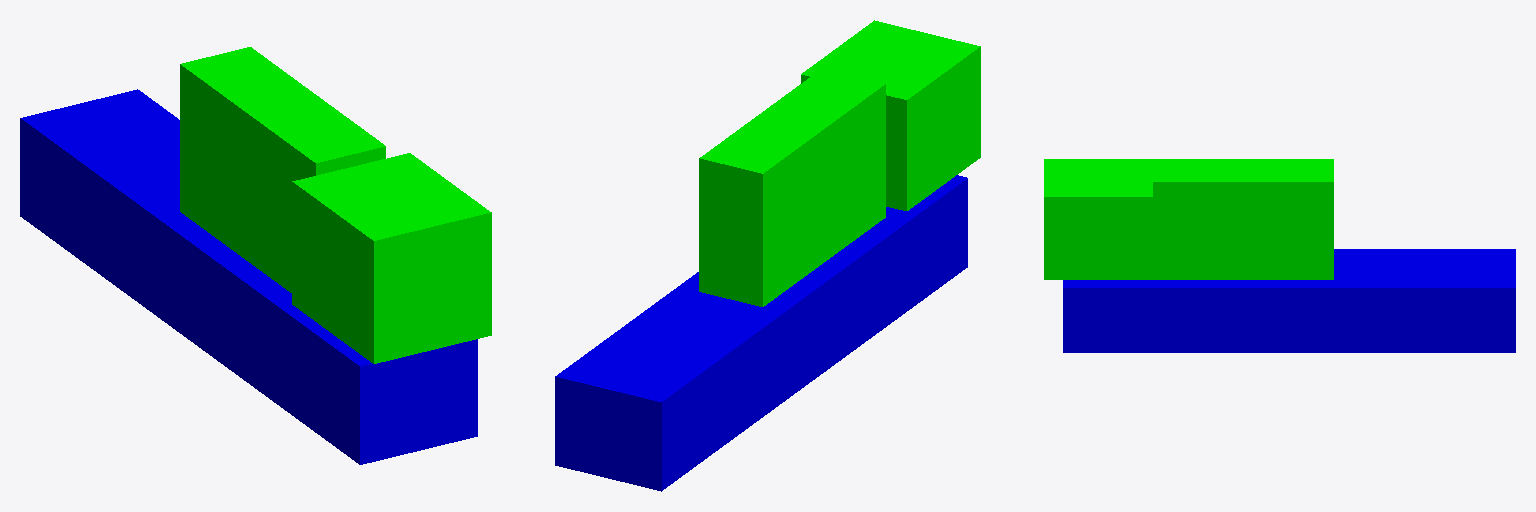
URDF robot description (robot):
<robot name = "robot">
    <link name="root">
        <inertial>
            <origin xyz="0.0 0.0 1.5" rpy="0 0 0"/>
            <mass value="1" />
            <inertia ixx="100" ixy="0" ixz="0" iyy="100" iyz="0" izz="100" />
        </inertial>
        <visual>
            <origin xyz="0.0 0.0 1.5" rpy="0 0 0"/>
            <geometry>
                <box size="0 0 0.0001" />
            </geometry>
            <material name="Green">
                <color rgba="0 1.0 0.0 1.0"/>
            </material>
        </visual>
        <collision>
            <origin xyz="0.0 0.0 1.5" rpy="0 0 0"/>
            <geometry>
                <box size="0 0 0.0001" />
            </geometry>
        </collision>
    </link>
    <joint name="root_000" type="revolute">
       <parent link="root"/>
       <child  link="000"/>
       <origin rpy="0 0 0" xyz="0.0 0.0 1.5" />
     <axis xyz="1 0 0"/>
       <limit effort="0.0" lower="-3.14159" upper="3.14159" velocity="0.0"/>
    </joint>
    <link name="000">
        <inertial>
            <origin xyz="0.0 0.1 0.0" rpy="0 0 0"/>
            <mass value="1" />
            <inertia ixx="100" ixy="0" ixz="0" iyy="100" iyz="0" izz="100" />
        </inertial>
        <visual>
            <origin xyz="0.0 0.1 0.0" rpy="0 0 0"/>
            <geometry>
                <box size="0.5 0.2 0.5" />
            </geometry>
            <material name="Green">
                <color rgba="0 1.0 0.0 1.0"/>
            </material>
        </visual>
        <collision>
            <origin xyz="0.0 0.1 0.0" rpy="0 0 0"/>
            <geometry>
                <box size="0.5 0.2 0.5" />
            </geometry>
        </collision>
    </link>
    <joint name="000_010" type="revolute">
       <parent link="000"/>
       <child  link="010"/>
       <origin rpy="0 0 0" xyz="0.0 0.2 -0.0" />
     <axis xyz="0 1 0"/>
       <limit effort="0.0" lower="-3.14159" upper="3.14159" velocity="0.0"/>
    </joint>
    <link name="010">
        <inertial>
            <origin xyz="0.0 0.1 -0.0" rpy="0 0 0"/>
            <mass value="1" />
            <inertia ixx="100" ixy="0" ixz="0" iyy="100" iyz="0" izz="100" />
        </inertial>
        <visual>
            <origin xyz="0.0 0.1 -0.0" rpy="0 0 0"/>
            <geometry>
                <box size="0.5 0.2 0.5" />
            </geometry>
            <material name="Green">
                <color rgba="0 1.0 0.0 1.0"/>
            </material>
        </visual>
        <collision>
            <origin xyz="0.0 0.1 -0.0" rpy="0 0 0"/>
            <geometry>
                <box size="0.5 0.2 0.5" />
            </geometry>
        </collision>
    </link>
    <joint name="010_020" type="revolute">
       <parent link="010"/>
       <child  link="020"/>
       <origin rpy="0 0 0" xyz="0.0 0.2 -0.0" />
     <axis xyz="0 1 0"/>
       <limit effort="0.0" lower="-3.14159" upper="3.14159" velocity="0.0"/>
    </joint>
    <link name="020">
        <inertial>
            <origin xyz="0.0 0.1 -0.0" rpy="0 0 0"/>
            <mass value="1" />
            <inertia ixx="100" ixy="0" ixz="0" iyy="100" iyz="0" izz="100" />
        </inertial>
        <visual>
            <origin xyz="0.0 0.1 -0.0" rpy="0 0 0"/>
            <geometry>
                <box size="0.5 0.2 0.5" />
            </geometry>
            <material name="Green">
                <color rgba="0 1.0 0.0 1.0"/>
            </material>
        </visual>
        <collision>
            <origin xyz="0.0 0.1 -0.0" rpy="0 0 0"/>
            <geometry>
                <box size="0.5 0.2 0.5" />
            </geometry>
        </collision>
    </link>
    <joint name="020_020-100" type="revolute">
       <parent link="020"/>
       <child  link="020-100"/>
       <origin rpy="0 0 0" xyz="0.0 0.2 -0.0" />
     <axis xyz="0 1 0"/>
       <limit effort="0.0" lower="-3.14159" upper="3.14159" velocity="0.0"/>
    </joint>
    <link name="020-100">
        <inertial>
            <origin xyz="0.0 0.25 -0.0" rpy="0 0 0"/>
            <mass value="1" />
            <inertia ixx="100" ixy="0" ixz="0" iyy="100" iyz="0" izz="100" />
        </inertial>
        <visual>
            <origin xyz="0.0 0.25 -0.0" rpy="0 0 0"/>
            <geometry>
                <box size="0.3 0.5 0.6" />
            </geometry>
            <material name="Green">
                <color rgba="0 1.0 0.0 1.0"/>
            </material>
        </visual>
        <collision>
            <origin xyz="0.0 0.25 -0.0" rpy="0 0 0"/>
            <geometry>
                <box size="0.3 0.5 0.6" />
            </geometry>
        </collision>
    </link>
    <joint name="020-100_020-110" type="revolute">
       <parent link="020-100"/>
       <child  link="020-110"/>
       <origin rpy="0 0 0" xyz="0.0 0.5 -0.0" />
     <axis xyz="0 1 0"/>
       <limit effort="0.0" lower="-3.14159" upper="3.14159" velocity="0.0"/>
    </joint>
    <link name="020-110">
        <inertial>
            <origin xyz="0.0 0.25 -0.0" rpy="0 0 0"/>
            <mass value="1" />
            <inertia ixx="100" ixy="0" ixz="0" iyy="100" iyz="0" izz="100" />
        </inertial>
        <visual>
            <origin xyz="0.0 0.25 -0.0" rpy="0 0 0"/>
            <geometry>
                <box size="0.3 0.5 0.6" />
            </geometry>
            <material name="Green">
                <color rgba="0 1.0 0.0 1.0"/>
            </material>
        </visual>
        <collision>
            <origin xyz="0.0 0.25 -0.0" rpy="0 0 0"/>
            <geometry>
                <box size="0.3 0.5 0.6" />
            </geometry>
        </collision>
    </link>
    <joint name="020-110_020-110-200" type="revolute">
       <parent link="020-110"/>
       <child  link="020-110-200"/>
       <origin rpy="0 0 0" xyz="0.0 0.25 -0.3" />
     <axis xyz="0 0 1"/>
       <limit effort="0.0" lower="-3.14159" upper="3.14159" velocity="0.0"/>
    </joint>
    <link name="020-110-200">
        <inertial>
            <origin xyz="0.0 0.0 -0.1" rpy="0 0 0"/>
            <mass value="1" />
            <inertia ixx="100" ixy="0" ixz="0" iyy="100" iyz="0" izz="100" />
        </inertial>
        <visual>
            <origin xyz="0.0 0.0 -0.1" rpy="0 0 0"/>
            <geometry>
                <box size="0.5 0.7 0.2" />
            </geometry>
            <material name="Blue">
                <color rgba="0 0.0 1.0 1.0"/>
            </material>
        </visual>
        <collision>
            <origin xyz="0.0 0.0 -0.1" rpy="0 0 0"/>
            <geometry>
                <box size="0.5 0.7 0.2" />
            </geometry>
        </collision>
    </link>
    <joint name="020-110-200_020-110-210" type="revolute">
       <parent link="020-110-200"/>
       <child  link="020-110-210"/>
       <origin rpy="0 0 0" xyz="0.0 0.0 -0.2" />
     <axis xyz="0 0 1"/>
       <limit effort="0.0" lower="-3.14159" upper="3.14159" velocity="0.0"/>
    </joint>
    <link name="020-110-210">
        <inertial>
            <origin xyz="0.0 0.0 -0.1" rpy="0 0 0"/>
            <mass value="1" />
            <inertia ixx="100" ixy="0" ixz="0" iyy="100" iyz="0" izz="100" />
        </inertial>
        <visual>
            <origin xyz="0.0 0.0 -0.1" rpy="0 0 0"/>
            <geometry>
                <box size="0.5 0.7 0.2" />
            </geometry>
            <material name="Blue">
                <color rgba="0 0.0 1.0 1.0"/>
            </material>
        </visual>
        <collision>
            <origin xyz="0.0 0.0 -0.1" rpy="0 0 0"/>
            <geometry>
                <box size="0.5 0.7 0.2" />
            </geometry>
        </collision>
    </link>
    <joint name="020-110-210_020-110-210-300" type="revolute">
       <parent link="020-110-210"/>
       <child  link="020-110-210-300"/>
       <origin rpy="0 0 0" xyz="0.0 0.35 -0.1" />
     <axis xyz="0 1 0"/>
       <limit effort="0.0" lower="-3.14159" upper="3.14159" velocity="0.0"/>
    </joint>
    <link name="020-110-210-300">
        <inertial>
            <origin xyz="0.0 0.15 -0.0" rpy="0 0 0"/>
            <mass value="1" />
            <inertia ixx="100" ixy="0" ixz="0" iyy="100" iyz="0" izz="100" />
        </inertial>
        <visual>
            <origin xyz="0.0 0.15 -0.0" rpy="0 0 0"/>
            <geometry>
                <box size="0.5 0.3 0.2" />
            </geometry>
            <material name="Blue">
                <color rgba="0 0.0 1.0 1.0"/>
            </material>
        </visual>
        <collision>
            <origin xyz="0.0 0.15 -0.0" rpy="0 0 0"/>
            <geometry>
                <box size="0.5 0.3 0.2" />
            </geometry>
        </collision>
    </link>
    <joint name="020-110-210-300_020-110-210-310" type="revolute">
       <parent link="020-110-210-300"/>
       <child  link="020-110-210-310"/>
       <origin rpy="0 0 0" xyz="0.0 0.3 -0.0" />
     <axis xyz="0 1 0"/>
       <limit effort="0.0" lower="-3.14159" upper="3.14159" velocity="0.0"/>
    </joint>
    <link name="020-110-210-310">
        <inertial>
            <origin xyz="0.0 0.15 -0.0" rpy="0 0 0"/>
            <mass value="1" />
            <inertia ixx="100" ixy="0" ixz="0" iyy="100" iyz="0" izz="100" />
        </inertial>
        <visual>
            <origin xyz="0.0 0.15 -0.0" rpy="0 0 0"/>
            <geometry>
                <box size="0.5 0.3 0.2" />
            </geometry>
            <material name="Blue">
                <color rgba="0 0.0 1.0 1.0"/>
            </material>
        </visual>
        <collision>
            <origin xyz="0.0 0.15 -0.0" rpy="0 0 0"/>
            <geometry>
                <box size="0.5 0.3 0.2" />
            </geometry>
        </collision>
    </link>
    <joint name="020-110-210-310_020-110-210-320" type="revolute">
       <parent link="020-110-210-310"/>
       <child  link="020-110-210-320"/>
       <origin rpy="0 0 0" xyz="0.0 0.3 -0.0" />
     <axis xyz="0 1 0"/>
       <limit effort="0.0" lower="-3.14159" upper="3.14159" velocity="0.0"/>
    </joint>
    <link name="020-110-210-320">
        <inertial>
            <origin xyz="0.0 0.15 -0.0" rpy="0 0 0"/>
            <mass value="1" />
            <inertia ixx="100" ixy="0" ixz="0" iyy="100" iyz="0" izz="100" />
        </inertial>
        <visual>
            <origin xyz="0.0 0.15 -0.0" rpy="0 0 0"/>
            <geometry>
                <box size="0.5 0.3 0.2" />
            </geometry>
            <material name="Blue">
                <color rgba="0 0.0 1.0 1.0"/>
            </material>
        </visual>
        <collision>
            <origin xyz="0.0 0.15 -0.0" rpy="0 0 0"/>
            <geometry>
                <box size="0.5 0.3 0.2" />
            </geometry>
        </collision>
    </link>
    <joint name="020-110-210_020-110-210-301" type="revolute">
       <parent link="020-110-210"/>
       <child  link="020-110-210-301"/>
       <origin rpy="0 0 0" xyz="0.0 -0.35 -0.1" />
     <axis xyz="0 1 0"/>
       <limit effort="0.0" lower="-3.14159" upper="3.14159" velocity="0.0"/>
    </joint>
    <link name="020-110-210-301">
        <inertial>
            <origin xyz="0.0 -0.15 -0.0" rpy="0 0 0"/>
            <mass value="1" />
            <inertia ixx="100" ixy="0" ixz="0" iyy="100" iyz="0" izz="100" />
        </inertial>
        <visual>
            <origin xyz="0.0 -0.15 -0.0" rpy="0 0 0"/>
            <geometry>
                <box size="0.5 0.3 0.2" />
            </geometry>
            <material name="Blue">
                <color rgba="0 0.0 1.0 1.0"/>
            </material>
        </visual>
        <collision>
            <origin xyz="0.0 -0.15 -0.0" rpy="0 0 0"/>
            <geometry>
                <box size="0.5 0.3 0.2" />
            </geometry>
        </collision>
    </link>
    <joint name="020-110-210-301_020-110-210-311" type="revolute">
       <parent link="020-110-210-301"/>
       <child  link="020-110-210-311"/>
       <origin rpy="0 0 0" xyz="0.0 -0.3 -0.0" />
     <axis xyz="0 1 0"/>
       <limit effort="0.0" lower="-3.14159" upper="3.14159" velocity="0.0"/>
    </joint>
    <link name="020-110-210-311">
        <inertial>
            <origin xyz="0.0 -0.15 -0.0" rpy="0 0 0"/>
            <mass value="1" />
            <inertia ixx="100" ixy="0" ixz="0" iyy="100" iyz="0" izz="100" />
        </inertial>
        <visual>
            <origin xyz="0.0 -0.15 -0.0" rpy="0 0 0"/>
            <geometry>
                <box size="0.5 0.3 0.2" />
            </geometry>
            <material name="Blue">
                <color rgba="0 0.0 1.0 1.0"/>
            </material>
        </visual>
        <collision>
            <origin xyz="0.0 -0.15 -0.0" rpy="0 0 0"/>
            <geometry>
                <box size="0.5 0.3 0.2" />
            </geometry>
        </collision>
    </link>
    <joint name="020-110-210-311_020-110-210-321" type="revolute">
       <parent link="020-110-210-311"/>
       <child  link="020-110-210-321"/>
       <origin rpy="0 0 0" xyz="0.0 -0.3 -0.0" />
     <axis xyz="0 1 0"/>
       <limit effort="0.0" lower="-3.14159" upper="3.14159" velocity="0.0"/>
    </joint>
    <link name="020-110-210-321">
        <inertial>
            <origin xyz="0.0 -0.15 -0.0" rpy="0 0 0"/>
            <mass value="1" />
            <inertia ixx="100" ixy="0" ixz="0" iyy="100" iyz="0" izz="100" />
        </inertial>
        <visual>
            <origin xyz="0.0 -0.15 -0.0" rpy="0 0 0"/>
            <geometry>
                <box size="0.5 0.3 0.2" />
            </geometry>
            <material name="Blue">
                <color rgba="0 0.0 1.0 1.0"/>
            </material>
        </visual>
        <collision>
            <origin xyz="0.0 -0.15 -0.0" rpy="0 0 0"/>
            <geometry>
                <box size="0.5 0.3 0.2" />
            </geometry>
        </collision>
    </link>
    <joint name="020-110-200_020-110-200-300" type="revolute">
       <parent link="020-110-200"/>
       <child  link="020-110-200-300"/>
       <origin rpy="0 0 0" xyz="0.0 0.35 -0.1" />
     <axis xyz="0 1 0"/>
       <limit effort="0.0" lower="-3.14159" upper="3.14159" velocity="0.0"/>
    </joint>
    <link name="020-110-200-300">
        <inertial>
            <origin xyz="0.0 0.15 -0.0" rpy="0 0 0"/>
            <mass value="1" />
            <inertia ixx="100" ixy="0" ixz="0" iyy="100" iyz="0" izz="100" />
        </inertial>
        <visual>
            <origin xyz="0.0 0.15 -0.0" rpy="0 0 0"/>
            <geometry>
                <box size="0.5 0.3 0.2" />
            </geometry>
            <material name="Blue">
                <color rgba="0 0.0 1.0 1.0"/>
            </material>
        </visual>
        <collision>
            <origin xyz="0.0 0.15 -0.0" rpy="0 0 0"/>
            <geometry>
                <box size="0.5 0.3 0.2" />
            </geometry>
        </collision>
    </link>
    <joint name="020-110-200-300_020-110-200-310" type="revolute">
       <parent link="020-110-200-300"/>
       <child  link="020-110-200-310"/>
       <origin rpy="0 0 0" xyz="0.0 0.3 -0.0" />
     <axis xyz="0 1 0"/>
       <limit effort="0.0" lower="-3.14159" upper="3.14159" velocity="0.0"/>
    </joint>
    <link name="020-110-200-310">
        <inertial>
            <origin xyz="0.0 0.15 -0.0" rpy="0 0 0"/>
            <mass value="1" />
            <inertia ixx="100" ixy="0" ixz="0" iyy="100" iyz="0" izz="100" />
        </inertial>
        <visual>
            <origin xyz="0.0 0.15 -0.0" rpy="0 0 0"/>
            <geometry>
                <box size="0.5 0.3 0.2" />
            </geometry>
            <material name="Blue">
                <color rgba="0 0.0 1.0 1.0"/>
            </material>
        </visual>
        <collision>
            <origin xyz="0.0 0.15 -0.0" rpy="0 0 0"/>
            <geometry>
                <box size="0.5 0.3 0.2" />
            </geometry>
        </collision>
    </link>
    <joint name="020-110-200-310_020-110-200-320" type="revolute">
       <parent link="020-110-200-310"/>
       <child  link="020-110-200-320"/>
       <origin rpy="0 0 0" xyz="0.0 0.3 -0.0" />
     <axis xyz="0 1 0"/>
       <limit effort="0.0" lower="-3.14159" upper="3.14159" velocity="0.0"/>
    </joint>
    <link name="020-110-200-320">
        <inertial>
            <origin xyz="0.0 0.15 -0.0" rpy="0 0 0"/>
            <mass value="1" />
            <inertia ixx="100" ixy="0" ixz="0" iyy="100" iyz="0" izz="100" />
        </inertial>
        <visual>
            <origin xyz="0.0 0.15 -0.0" rpy="0 0 0"/>
            <geometry>
                <box size="0.5 0.3 0.2" />
            </geometry>
            <material name="Blue">
                <color rgba="0 0.0 1.0 1.0"/>
            </material>
        </visual>
        <collision>
            <origin xyz="0.0 0.15 -0.0" rpy="0 0 0"/>
            <geometry>
                <box size="0.5 0.3 0.2" />
            </geometry>
        </collision>
    </link>
    <joint name="020-110-200_020-110-200-301" type="revolute">
       <parent link="020-110-200"/>
       <child  link="020-110-200-301"/>
       <origin rpy="0 0 0" xyz="0.0 -0.35 -0.1" />
     <axis xyz="0 1 0"/>
       <limit effort="0.0" lower="-3.14159" upper="3.14159" velocity="0.0"/>
    </joint>
    <link name="020-110-200-301">
        <inertial>
            <origin xyz="0.0 -0.15 -0.0" rpy="0 0 0"/>
            <mass value="1" />
            <inertia ixx="100" ixy="0" ixz="0" iyy="100" iyz="0" izz="100" />
        </inertial>
        <visual>
            <origin xyz="0.0 -0.15 -0.0" rpy="0 0 0"/>
            <geometry>
                <box size="0.5 0.3 0.2" />
            </geometry>
            <material name="Blue">
                <color rgba="0 0.0 1.0 1.0"/>
            </material>
        </visual>
        <collision>
            <origin xyz="0.0 -0.15 -0.0" rpy="0 0 0"/>
            <geometry>
                <box size="0.5 0.3 0.2" />
            </geometry>
        </collision>
    </link>
    <joint name="020-110-200-301_020-110-200-311" type="revolute">
       <parent link="020-110-200-301"/>
       <child  link="020-110-200-311"/>
       <origin rpy="0 0 0" xyz="0.0 -0.3 -0.0" />
     <axis xyz="0 1 0"/>
       <limit effort="0.0" lower="-3.14159" upper="3.14159" velocity="0.0"/>
    </joint>
    <link name="020-110-200-311">
        <inertial>
            <origin xyz="0.0 -0.15 -0.0" rpy="0 0 0"/>
            <mass value="1" />
            <inertia ixx="100" ixy="0" ixz="0" iyy="100" iyz="0" izz="100" />
        </inertial>
        <visual>
            <origin xyz="0.0 -0.15 -0.0" rpy="0 0 0"/>
            <geometry>
                <box size="0.5 0.3 0.2" />
            </geometry>
            <material name="Blue">
                <color rgba="0 0.0 1.0 1.0"/>
            </material>
        </visual>
        <collision>
            <origin xyz="0.0 -0.15 -0.0" rpy="0 0 0"/>
            <geometry>
                <box size="0.5 0.3 0.2" />
            </geometry>
        </collision>
    </link>
    <joint name="020-110-200-311_020-110-200-321" type="revolute">
       <parent link="020-110-200-311"/>
       <child  link="020-110-200-321"/>
       <origin rpy="0 0 0" xyz="0.0 -0.3 -0.0" />
     <axis xyz="0 1 0"/>
       <limit effort="0.0" lower="-3.14159" upper="3.14159" velocity="0.0"/>
    </joint>
    <link name="020-110-200-321">
        <inertial>
            <origin xyz="0.0 -0.15 -0.0" rpy="0 0 0"/>
            <mass value="1" />
            <inertia ixx="100" ixy="0" ixz="0" iyy="100" iyz="0" izz="100" />
        </inertial>
        <visual>
            <origin xyz="0.0 -0.15 -0.0" rpy="0 0 0"/>
            <geometry>
                <box size="0.5 0.3 0.2" />
            </geometry>
            <material name="Blue">
                <color rgba="0 0.0 1.0 1.0"/>
            </material>
        </visual>
        <collision>
            <origin xyz="0.0 -0.15 -0.0" rpy="0 0 0"/>
            <geometry>
                <box size="0.5 0.3 0.2" />
            </geometry>
        </collision>
    </link>
</robot>

--- What the picture shows (computed from the rendered views, not written in the file) ---
The picture shows the robot from 3 angles, left to right: view 1: azimuth 30°, elevation 25°; view 2: azimuth 150°, elevation 25°; view 3: azimuth 270°, elevation 25°; orthographic projection.
Model robot with 20 links and 19 joints (19 revolute), rooted at root, posed all joints at 0.
Links seen in each view (by area): view 1: [phone redacted] (×14), 000, 020-110, 020-100, 010, 020; view 2: [phone redacted] (×14), 020-110, 020-100, 020, 000, 010; view 3: [phone redacted] (×14), 020-100, 020-110, 000, 010, 020.
Link boxes in pixels (left/top/right/bottom): [phone redacted] (×14): left=20, top=89, right=477, bottom=464; 000: left=347, top=193, right=491, bottom=363; 020-110: left=180, top=47, right=317, bottom=260; 020-100: left=248, top=96, right=385, bottom=292; 010: left=319, top=173, right=463, bottom=343; 020: left=292, top=153, right=436, bottom=323; [phone redacted] (×14): left=555, top=175, right=967, bottom=491; 020-110: left=699, top=114, right=823, bottom=306; 020-100: left=761, top=69, right=885, bottom=261; 020: left=801, top=56, right=931, bottom=210; 000: left=850, top=20, right=980, bottom=174; 010: left=826, top=39, right=955, bottom=192; [phone redacted] (×14): left=1063, top=249, right=1515, bottom=352; 020-100: left=1153, top=159, right=1243, bottom=279; 020-110: left=1244, top=159, right=1333, bottom=279; 000: left=1044, top=159, right=1080, bottom=279; 010: left=1081, top=159, right=1116, bottom=279; 020: left=1117, top=159, right=1152, bottom=279.
Size in the robot's own frame: 0.5 by 2.6 by 1 metres.
Geometry: primitives only (box / cylinder / sphere), no mesh files.
